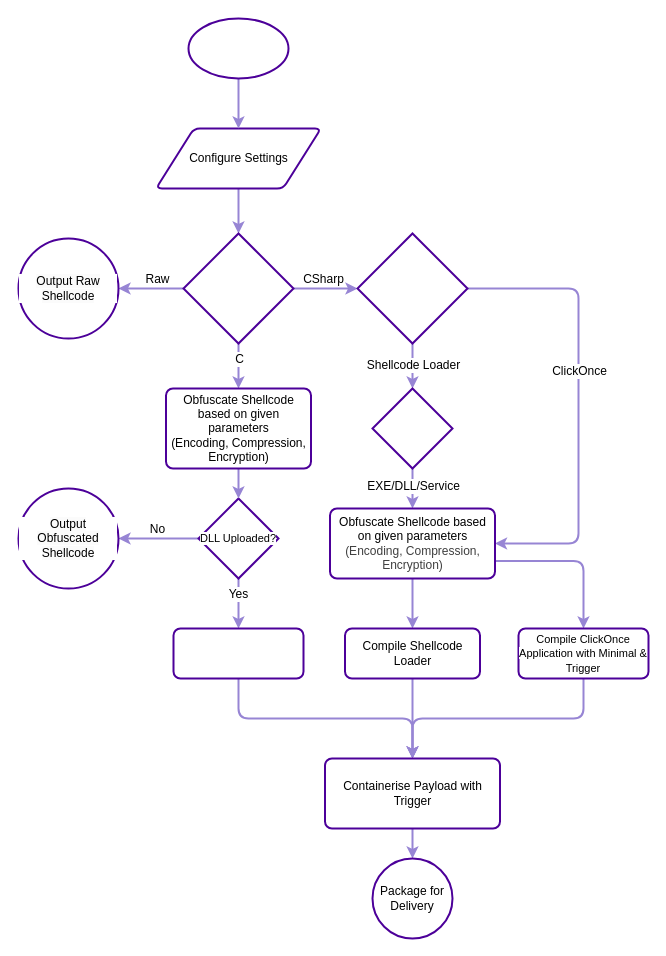
The diagram is 666 pixels wide and 956 high, and some of its shapes have lost their labels. Here are the shapes that lost their labels. From the top down, the box of each, then its label:
(187, 17, 289, 79): Create Erebus Wrapper
(182, 232, 294, 344): Shellcode Format
(356, 232, 468, 344): Loader Type
(371, 387, 453, 469): Binary Type
(172, 627, 304, 679): Proxy Selected DLL and Compile a DLL Shellcode Loader
